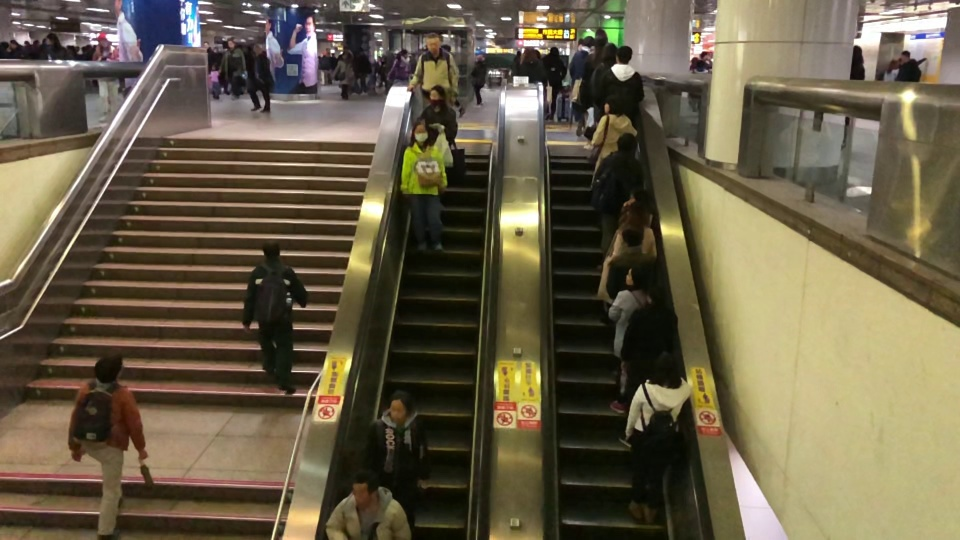person_head: (351, 467, 379, 508), (649, 350, 680, 385), (92, 352, 123, 385), (388, 388, 414, 423), (620, 200, 650, 227), (624, 265, 649, 289), (616, 132, 638, 158), (645, 283, 667, 307), (621, 226, 643, 250), (629, 186, 650, 210), (603, 93, 625, 115), (427, 84, 446, 108), (411, 119, 429, 144), (261, 239, 281, 259), (425, 31, 441, 55), (600, 43, 618, 64), (615, 45, 633, 65), (591, 36, 605, 53), (522, 45, 536, 60), (582, 35, 595, 49), (96, 32, 108, 47), (852, 44, 862, 62), (45, 33, 58, 46), (900, 50, 911, 63), (887, 59, 898, 71), (253, 43, 263, 56), (549, 46, 559, 59), (441, 44, 451, 54), (9, 38, 18, 49), (475, 53, 485, 62), (695, 59, 704, 69), (690, 57, 699, 67), (399, 49, 408, 58), (211, 62, 219, 72), (227, 39, 235, 49), (700, 51, 708, 61), (341, 51, 348, 61), (84, 44, 91, 53), (203, 41, 210, 50), (357, 47, 364, 56), (32, 40, 39, 48), (23, 40, 30, 47), (384, 48, 391, 55), (222, 41, 228, 49), (409, 52, 415, 59), (515, 50, 521, 57), (41, 37, 46, 45), (376, 55, 381, 62), (321, 51, 327, 56), (331, 53, 335, 57)
person_vbox: (67, 352, 148, 540), (622, 350, 692, 523), (240, 239, 308, 395), (363, 388, 431, 540), (617, 283, 679, 448), (592, 132, 644, 273), (607, 265, 653, 414), (398, 119, 448, 253), (323, 467, 412, 540), (589, 93, 637, 189), (406, 31, 460, 111), (604, 226, 660, 301), (582, 43, 618, 151), (596, 45, 644, 125), (611, 200, 658, 259), (568, 35, 595, 136), (91, 32, 120, 122), (419, 84, 458, 148), (841, 44, 865, 147), (579, 36, 606, 110), (441, 43, 465, 118), (543, 46, 567, 120), (246, 43, 271, 113), (218, 39, 246, 101), (619, 186, 653, 226), (331, 51, 355, 100), (517, 45, 547, 83), (690, 59, 708, 113), (469, 53, 486, 108), (385, 49, 412, 81), (895, 50, 921, 82), (44, 32, 67, 60), (382, 48, 395, 96), (356, 47, 367, 96), (203, 41, 218, 74), (208, 62, 221, 100), (26, 40, 46, 60), (319, 51, 330, 84), (884, 59, 899, 81), (9, 38, 24, 59), (698, 51, 712, 72), (511, 51, 521, 77), (218, 41, 228, 64), (82, 44, 95, 61), (409, 52, 417, 74), (689, 57, 699, 72), (374, 55, 381, 73), (330, 53, 337, 68)
